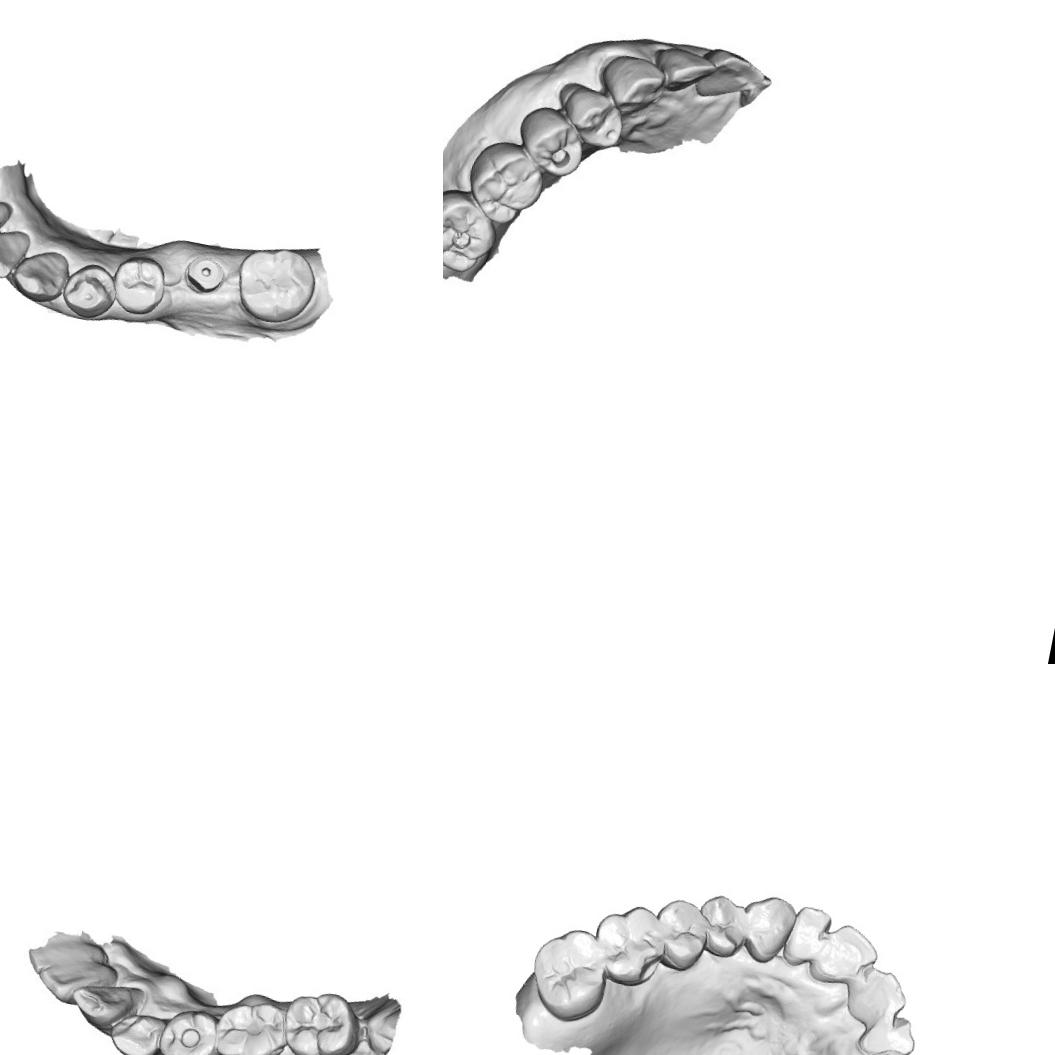canine: (62, 971, 149, 1044), (734, 889, 801, 969), (594, 50, 675, 115), (9, 243, 73, 306), (849, 1041, 918, 1055)
implant: (180, 250, 230, 298)
incisor: (809, 918, 883, 992), (654, 35, 724, 102), (40, 951, 118, 1008), (844, 963, 911, 1029), (699, 46, 763, 110), (782, 901, 835, 970), (853, 1006, 920, 1055), (0, 222, 32, 281), (0, 189, 14, 245)
molar: (522, 919, 616, 1028), (226, 238, 323, 330), (584, 896, 674, 992), (282, 987, 366, 1055), (470, 144, 544, 219), (212, 991, 292, 1055), (443, 186, 500, 275)
premolar: (646, 894, 714, 976), (690, 889, 752, 963), (525, 115, 589, 180), (108, 251, 168, 319), (57, 258, 118, 321), (563, 88, 629, 146), (109, 1005, 172, 1055), (161, 1006, 223, 1055)
